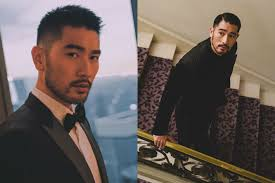asian_male: (49, 27, 104, 111)
